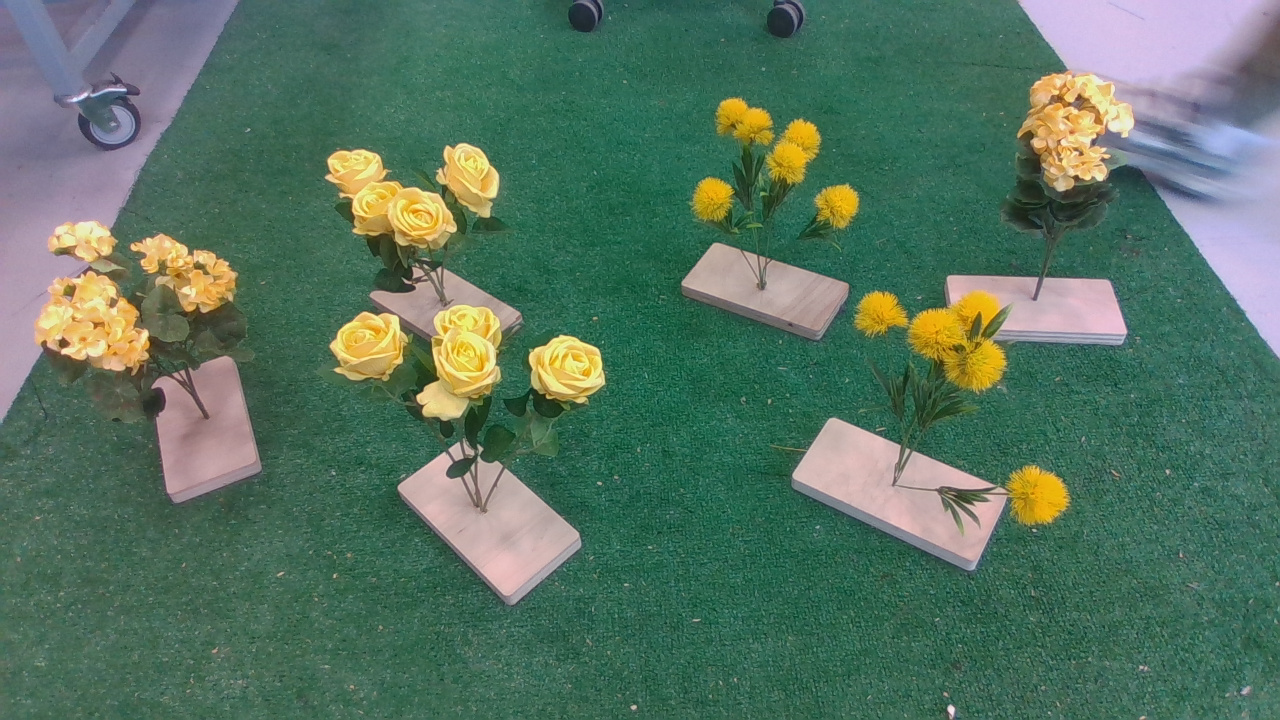dandelion: (861, 293, 1086, 534), (693, 95, 864, 257)
geranium: (31, 222, 266, 434), (997, 60, 1147, 246)
rose: (329, 308, 613, 472), (309, 129, 509, 299)
